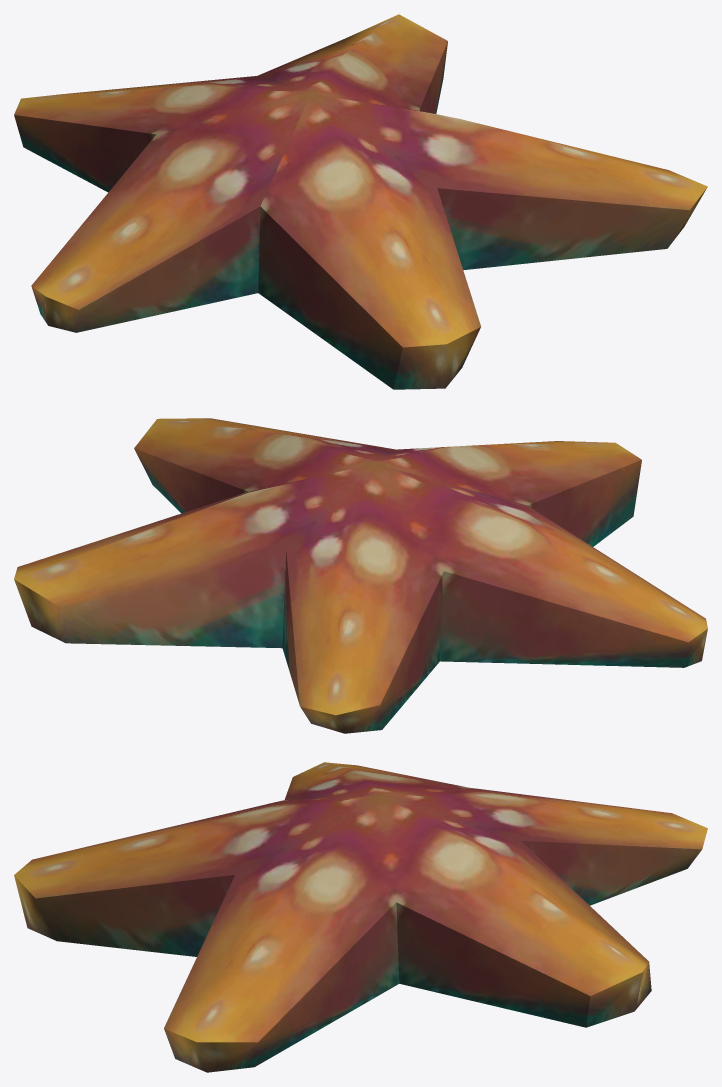
File: map_113_wujian_8.fbx
3 views of the same model, one above another, from view 1: azimuth 30°, elevation 25°; view 2: azimuth 150°, elevation 25°; view 3: azimuth 270°, elevation 25° (orthographic). The views are drawn at different scales.
Visible parts, largest first — view 1: map_113_wujian_8; view 2: map_113_wujian_8; view 3: map_113_wujian_8.
Part boxes in pixels (x1,y1,x2,y2): map_113_wujian_8: (14,14,707,389); map_113_wujian_8: (14,418,707,733); map_113_wujian_8: (14,762,707,1072).
Size of the model in its own units: 0.4428 by 0.1087 by 0.4466.
